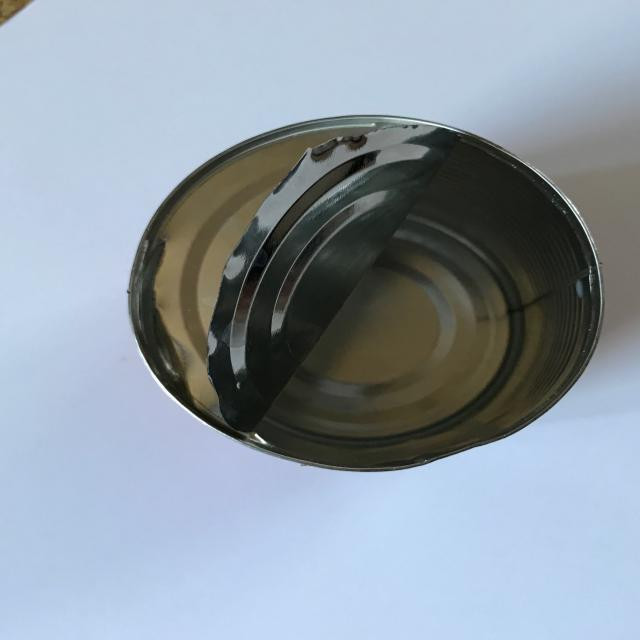metal: (118, 110, 612, 476)
